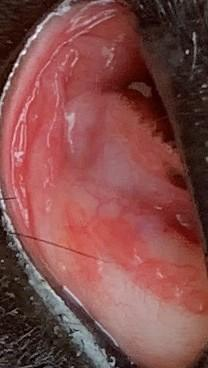eye_membrane: (2, 3, 205, 368)
